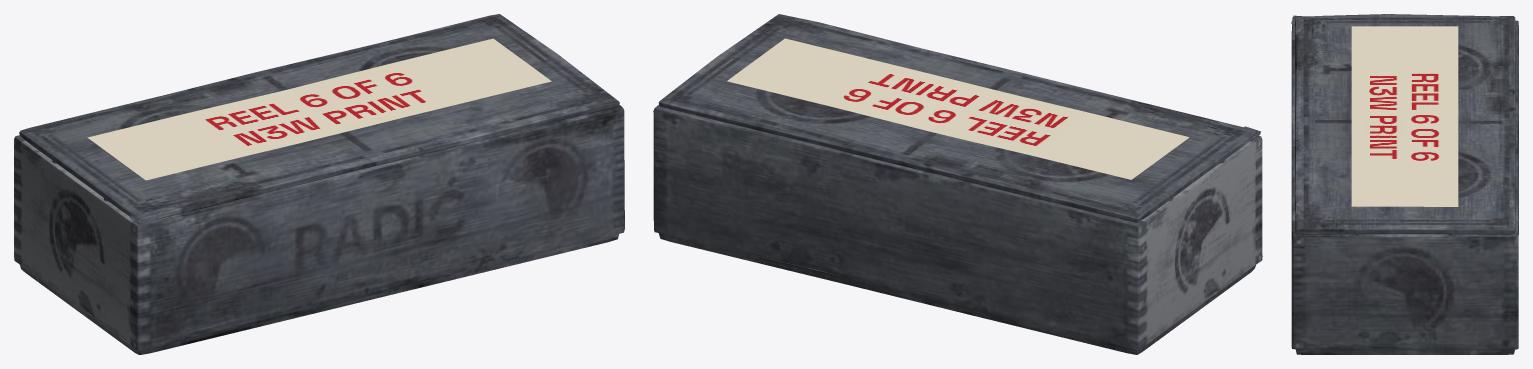
The model's file is nyb_mmmystery_reel.glb.
The picture shows the model from 3 angles, left to right: view 1: azimuth 30°, elevation 25°; view 2: azimuth 150°, elevation 25°; view 3: azimuth 270°, elevation 25°; orthographic projection. The views are drawn at different scales.
Visible parts, largest first — view 1: CheeseBox_01, stk_lbl_e972d4ef20.png; view 2: CheeseBox_01, stk_lbl_e972d4ef20.png; view 3: CheeseBox_01, stk_lbl_e972d4ef20.png.
Part boxes in pixels (left/top/right/bottom): CheeseBox_01: left=14, top=14, right=624, bottom=354; stk_lbl_e972d4ef20.png: left=87, top=38, right=551, bottom=180; CheeseBox_01: left=653, top=14, right=1262, bottom=354; stk_lbl_e972d4ef20.png: left=727, top=38, right=1189, bottom=179; CheeseBox_01: left=1291, top=14, right=1518, bottom=354; stk_lbl_e972d4ef20.png: left=1351, top=26, right=1458, bottom=206.
Bounding box in the file's own units: 0.2404 × 0.0682 × 0.1066.
Materials: 2 (2 with a texture image).
